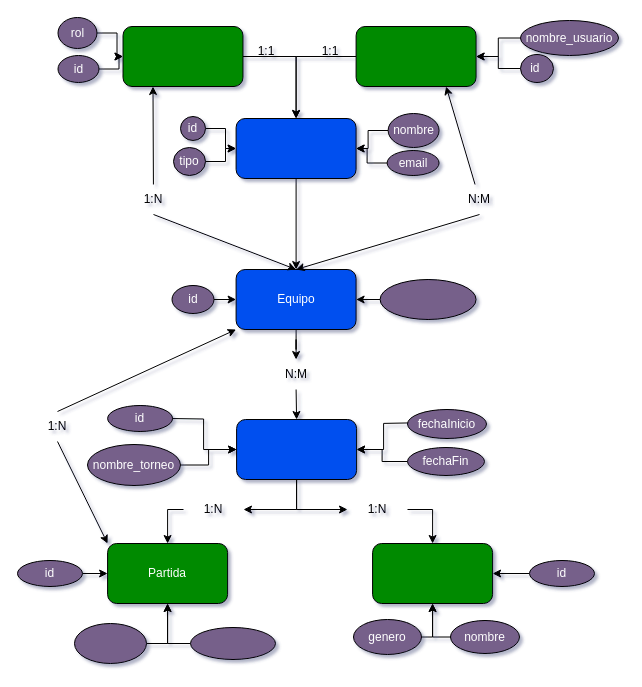
Image size: 642x687. Some labels were removed from this diagram. Each missing label, with the centre of its shape:
fechaPart: the point at 110,643
Juego: the point at 432,573
Jugadores: the point at 415,56
nombre_equipo: the point at 427,299
Organizadores: the point at 182,56
Persona: the point at 295,148
resultado: the point at 233,643
Torneo: the point at 296,449
